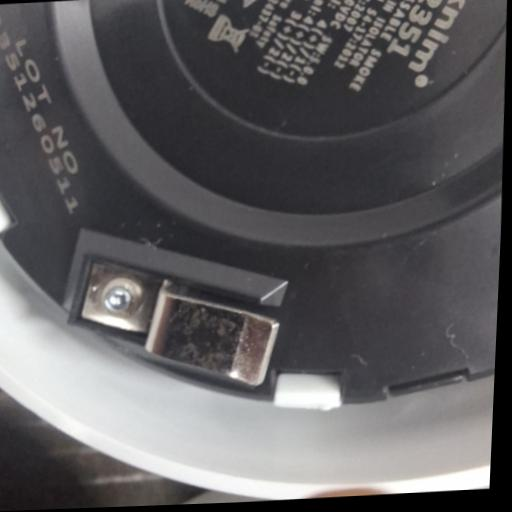yaysiz: (73, 248, 285, 397)
